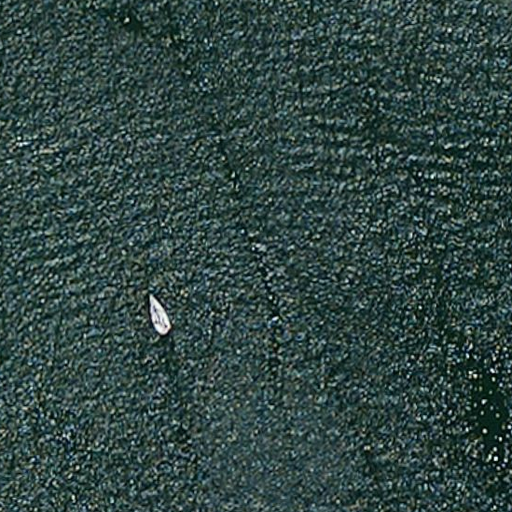ship: (143, 290, 173, 338)
